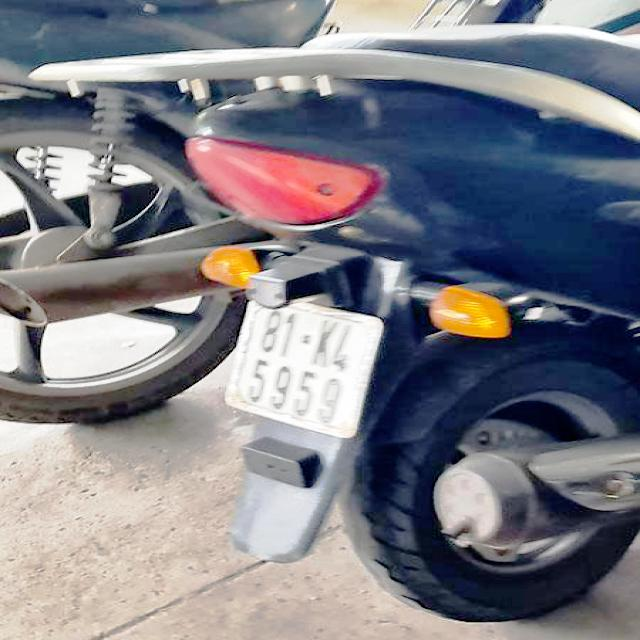license_plate: (232, 301, 380, 438)
